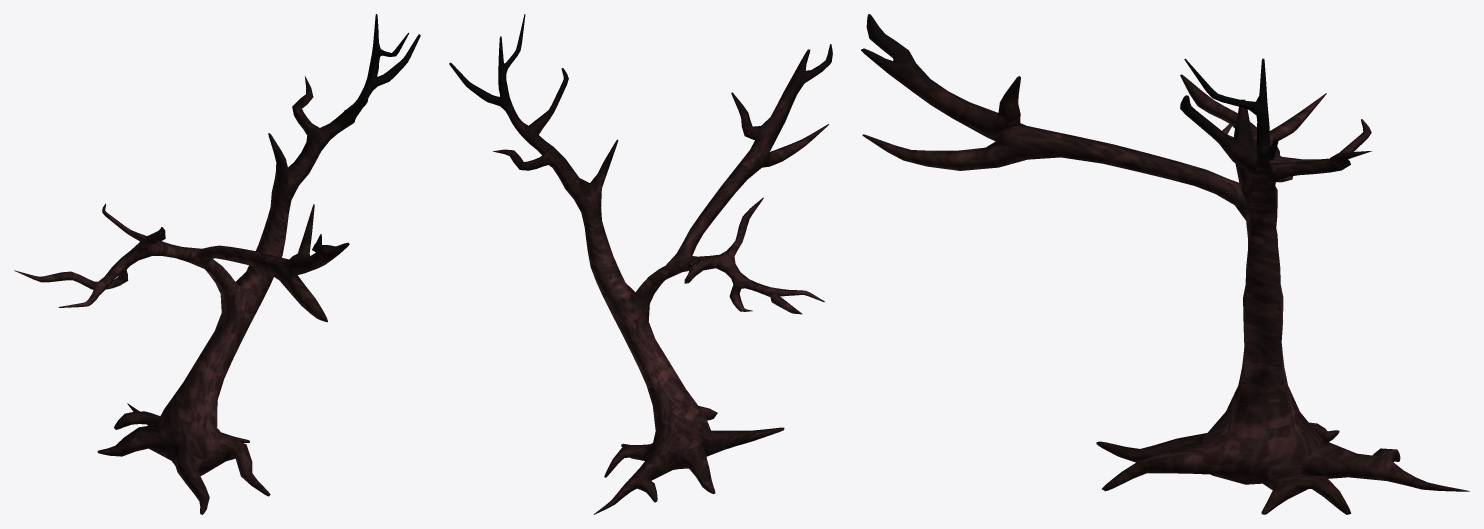
File: ArbolBien2.fbx
3 views of the same model, side by side, from view 1: azimuth 30°, elevation 25°; view 2: azimuth 150°, elevation 25°; view 3: azimuth 270°, elevation 25° (orthographic). The views are drawn at different scales.
Parts seen in each view (by area): view 1: Arbol.001; view 2: Arbol.001; view 3: Arbol.001.
Boxes of the visible parts, x1,y1,x2,y2 form: Arbol.001: [14, 14, 420, 514]; Arbol.001: [449, 14, 832, 514]; Arbol.001: [861, 14, 1469, 514].
Bounding box in the file's own units: 3845 × 3845 × 3845.
